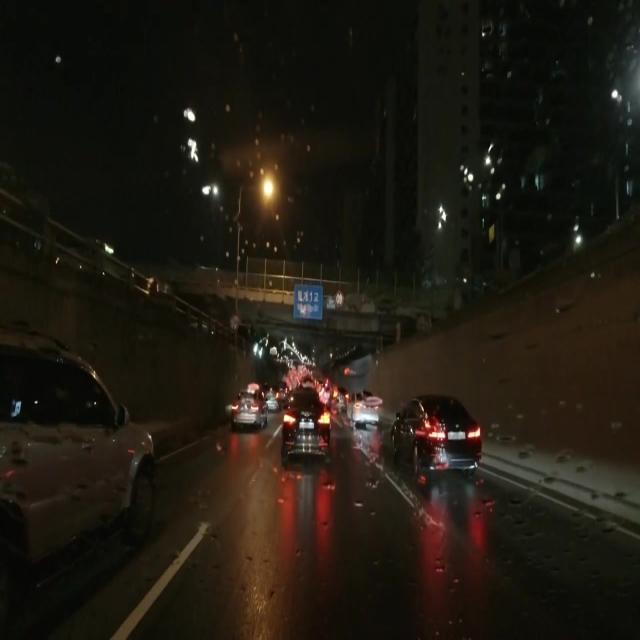Car: (2, 325, 158, 574), (391, 396, 478, 471), (284, 387, 332, 463), (231, 388, 264, 430), (347, 390, 377, 430)
